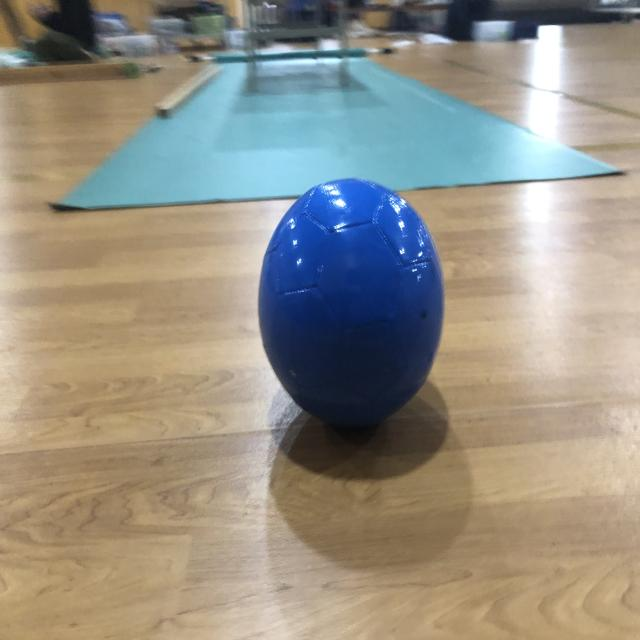blue_ball: (258, 177, 446, 426)
